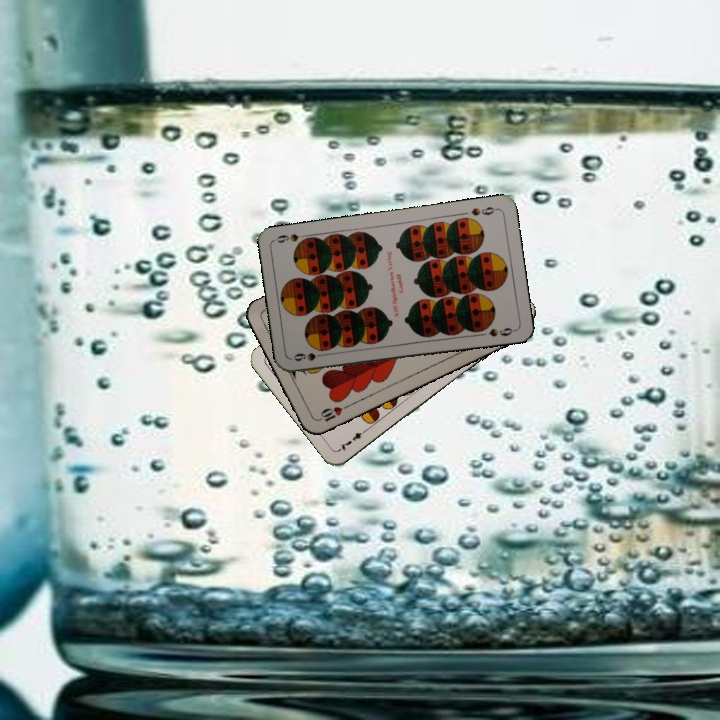E7: (335, 424, 371, 453)
H10: (312, 401, 351, 424)
S9: (289, 349, 330, 364), (467, 203, 500, 218)
